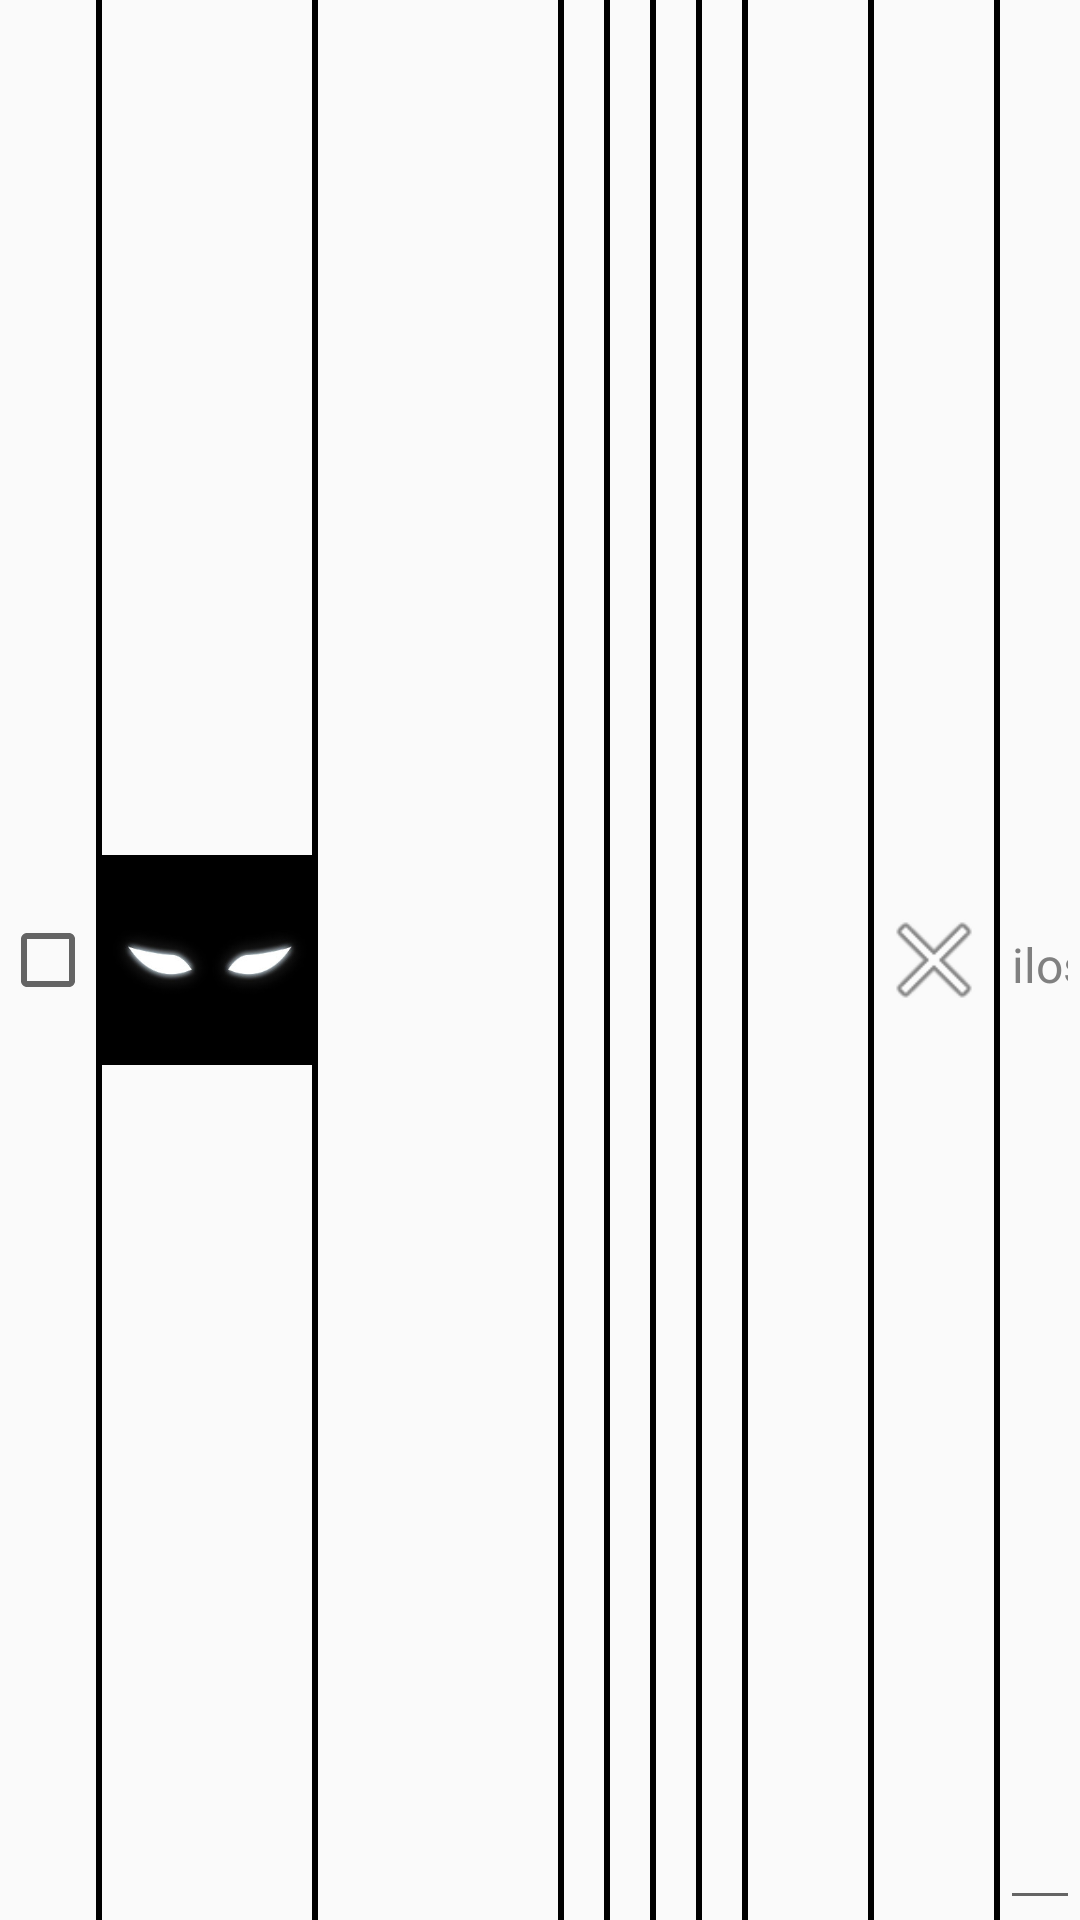

Icon click points for this 1080x1920 phone screenshot, format (x=x, y=y):
character: (x=209, y=961)
close clear cancel: (x=934, y=960)
